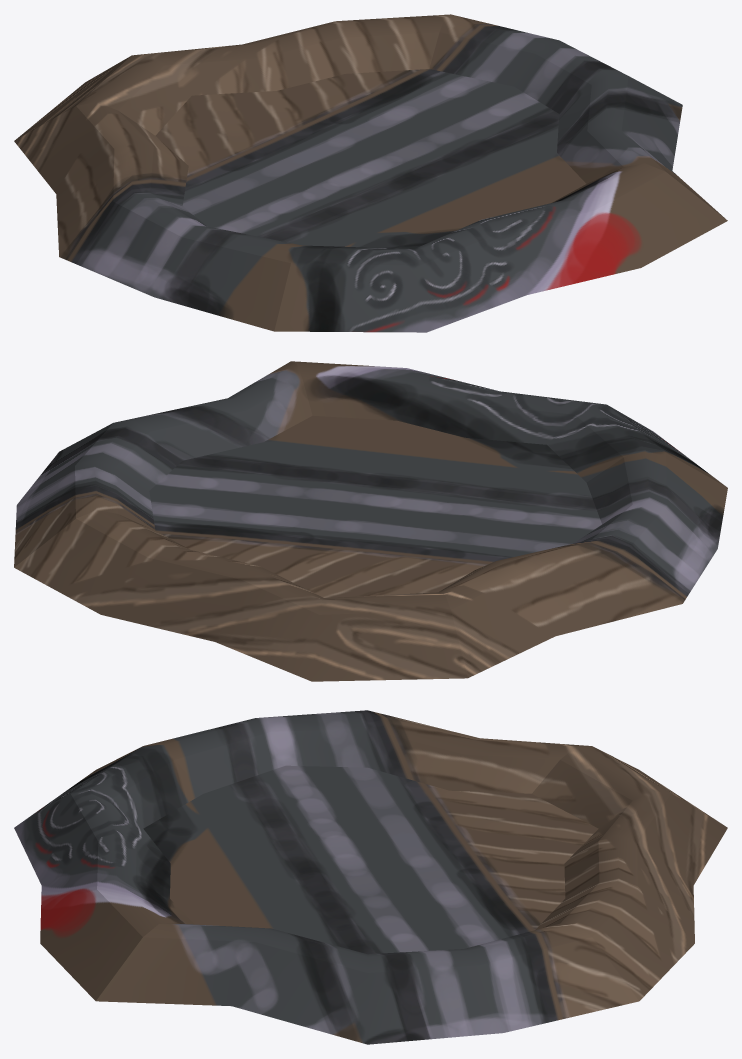
File: Trap_Pitfall.obj
The picture shows the model from 3 angles, top to bottom: view 1: azimuth 30°, elevation 25°; view 2: azimuth 150°, elevation 25°; view 3: azimuth 270°, elevation 25°; orthographic projection. The views are drawn at different scales.
Parts seen in each view (by area): view 1: pPlane1; view 2: pPlane1; view 3: pPlane1.
Boxes of the visible parts, box(x1,y1,x2,y2) form: pPlane1: box(14, 14, 727, 332); pPlane1: box(14, 361, 727, 681); pPlane1: box(14, 710, 727, 1044).
Size of the model in its own units: 33.67 by 2.49 by 31.95.
